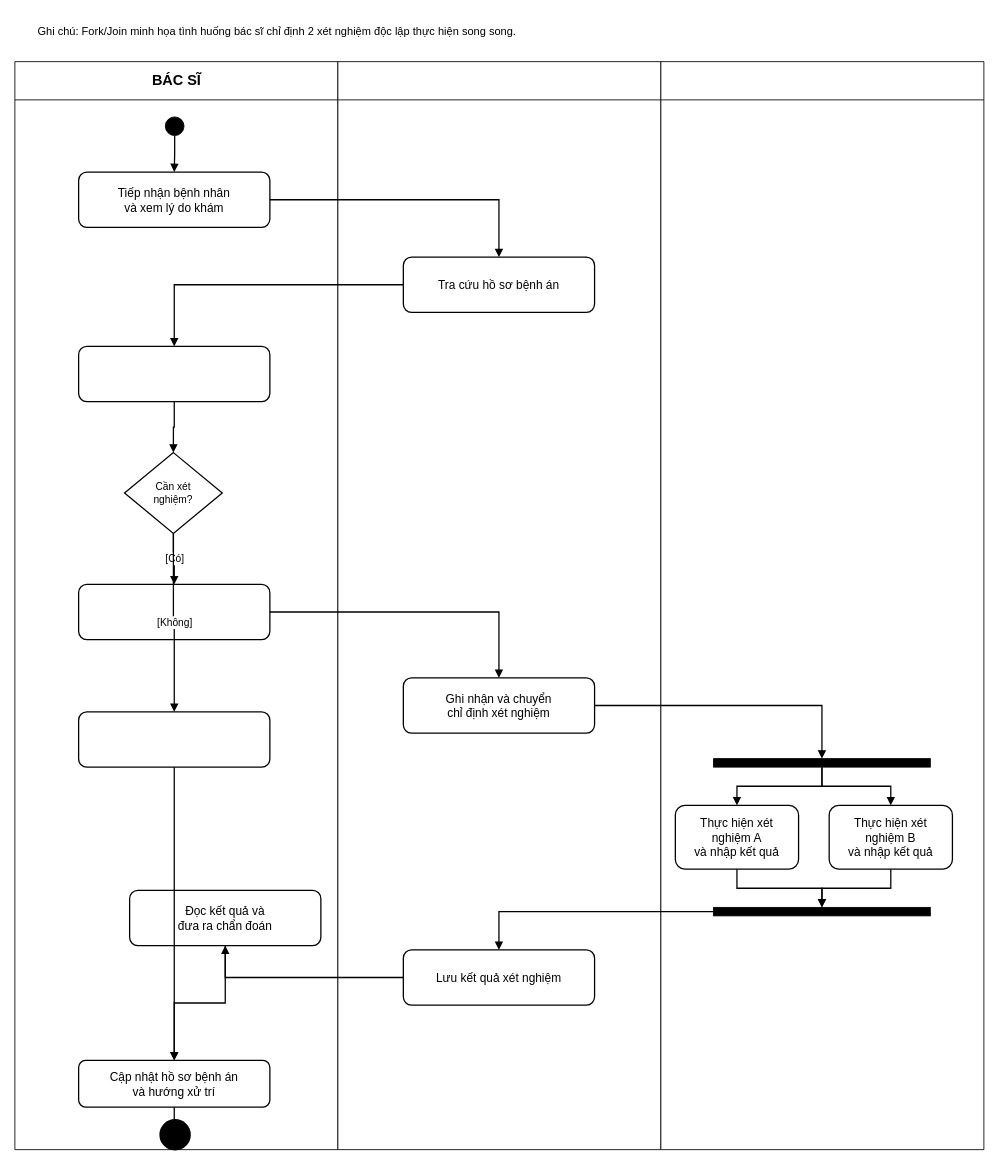
Some shapes in this 999 by 1165 pixel diagram are drawn without their labels. Each missing label, with the box of its shape:
Chẩn đoán từ khám lâm sàng: (78, 711, 270, 767)
Chỉ định xét nghiệm (giả định: 2 xét nghiệm): (78, 583, 270, 640)
HỆ THỐNG: (337, 61, 661, 1150)
Khám lâm sàng, ghi triệu chứng: (78, 345, 270, 402)
KỸ THUẬT VIÊN XÉT NGHIỆM: (660, 61, 984, 1150)
